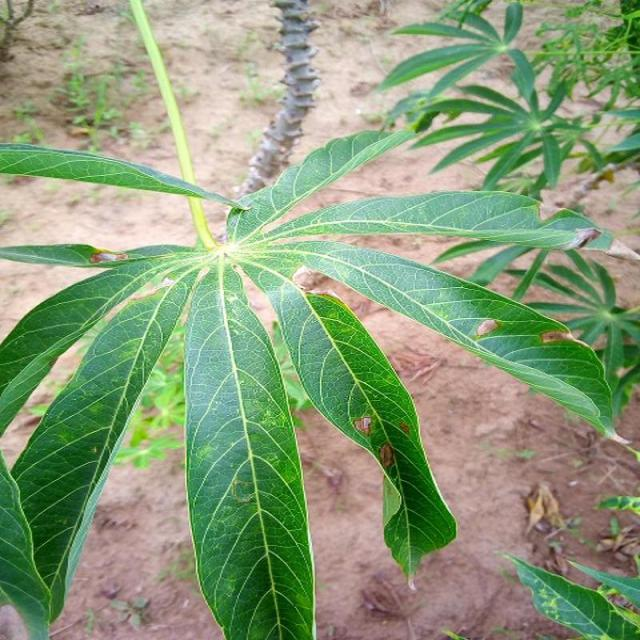cassava leaf: (1, 3, 620, 637), (1, 255, 195, 636), (268, 274, 458, 587), (182, 253, 317, 638)
